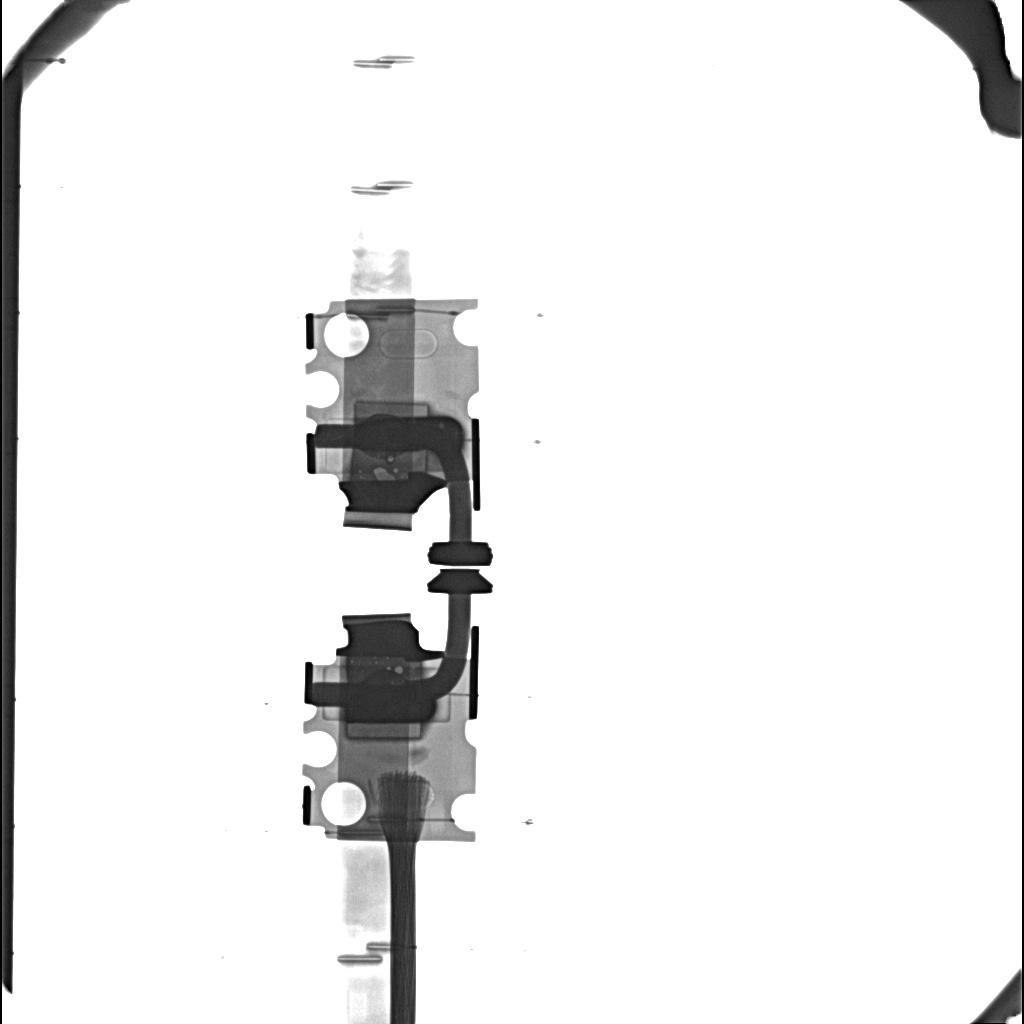PX: (345, 723, 423, 740), (354, 401, 429, 417)
QP: (374, 467, 395, 481), (395, 666, 402, 674), (388, 456, 393, 462), (394, 468, 398, 472)
SX: (354, 418, 463, 453), (346, 685, 435, 723)
